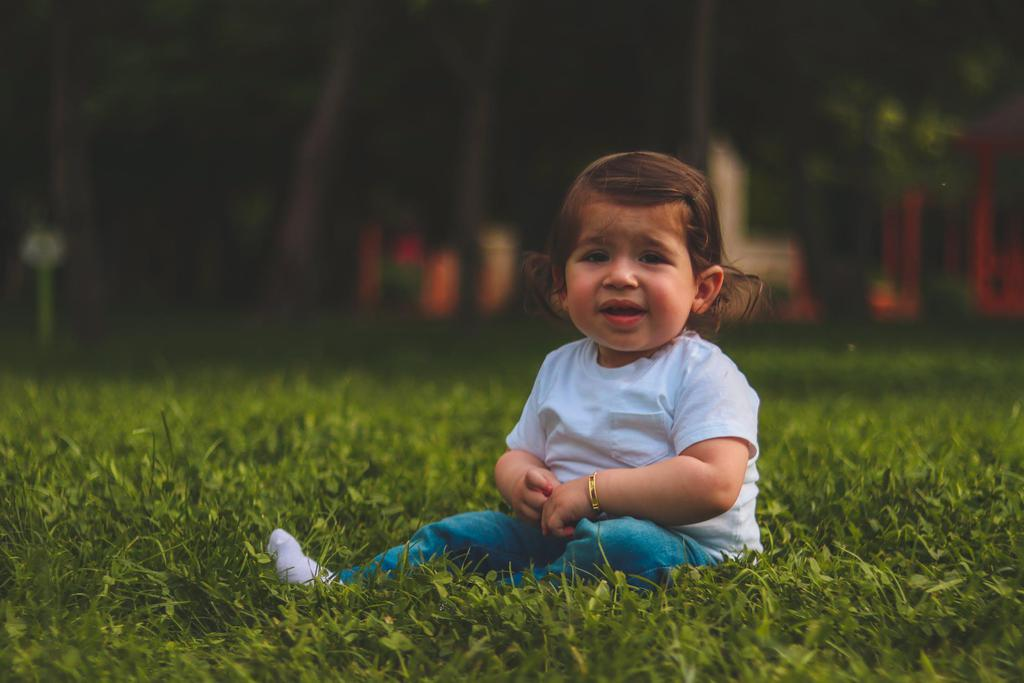child: (221, 136, 790, 617)
